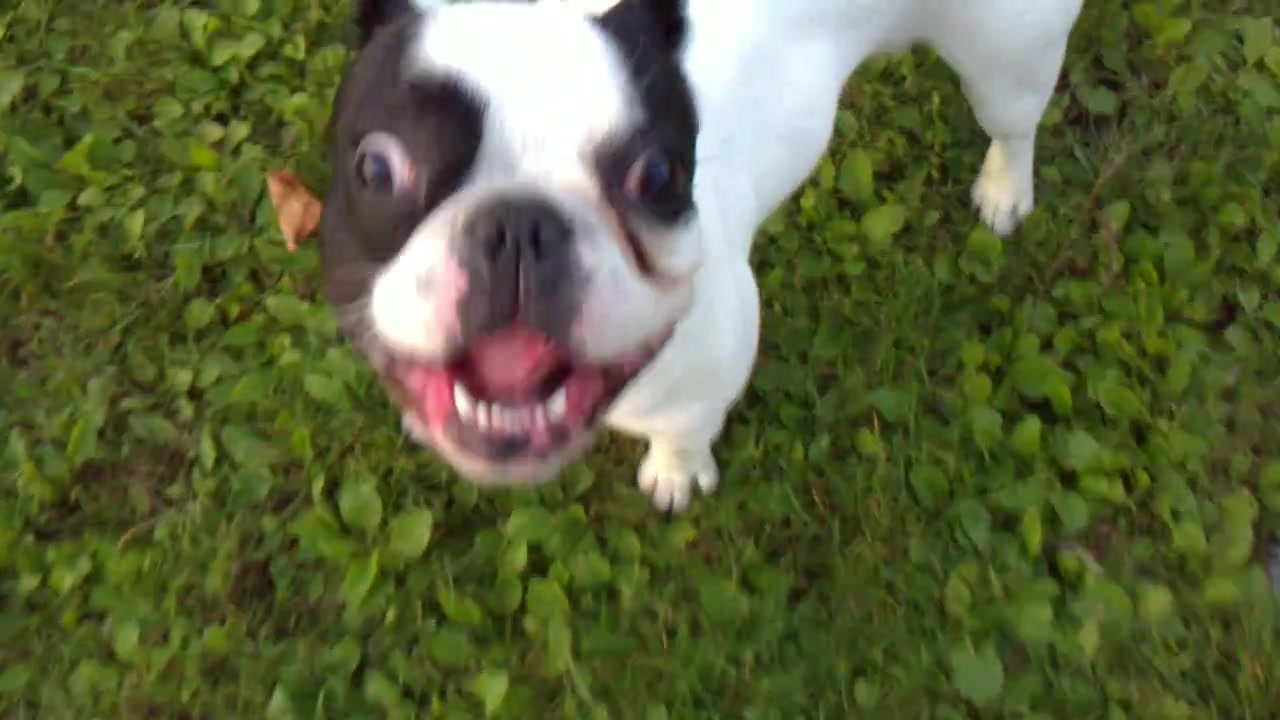dog: (309, 1, 1099, 509)
